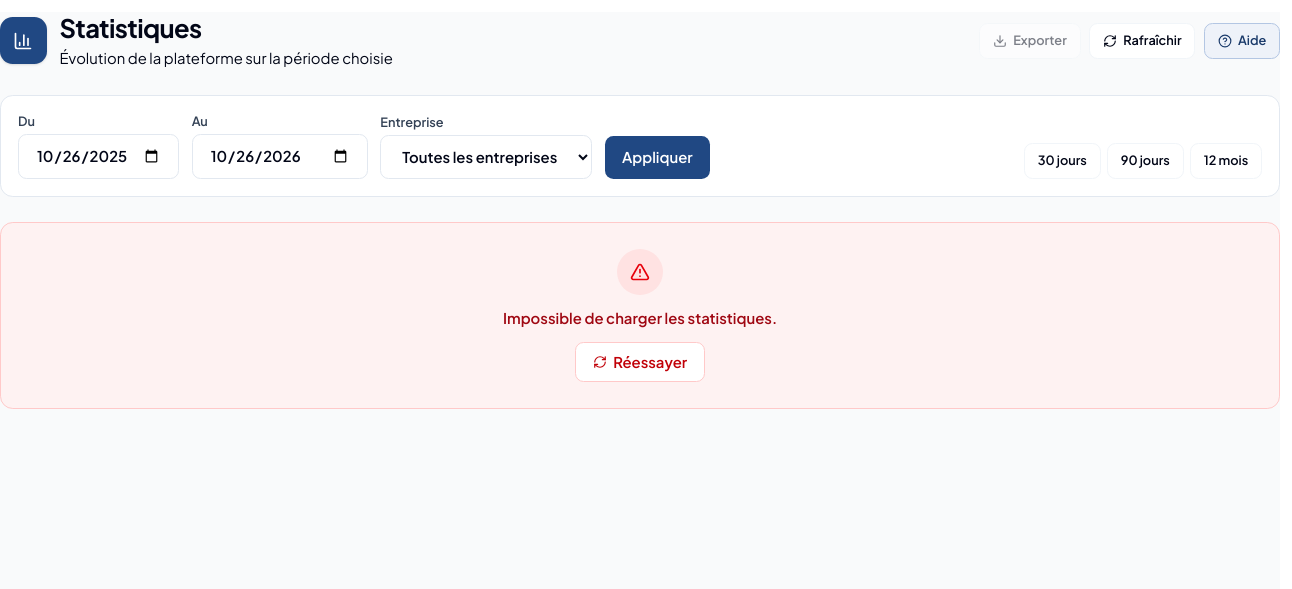
📊 UI & Logique - Composant <AdminStatsPeriode /> › 🔴 affiche une erreur de chargement avec possibilité de réessayer
Expected: the text "Impossible de charger les statistiques." is shown, [503,308,777,329]
Click the button "Réessayer": (640, 362) [575,342,705,382]
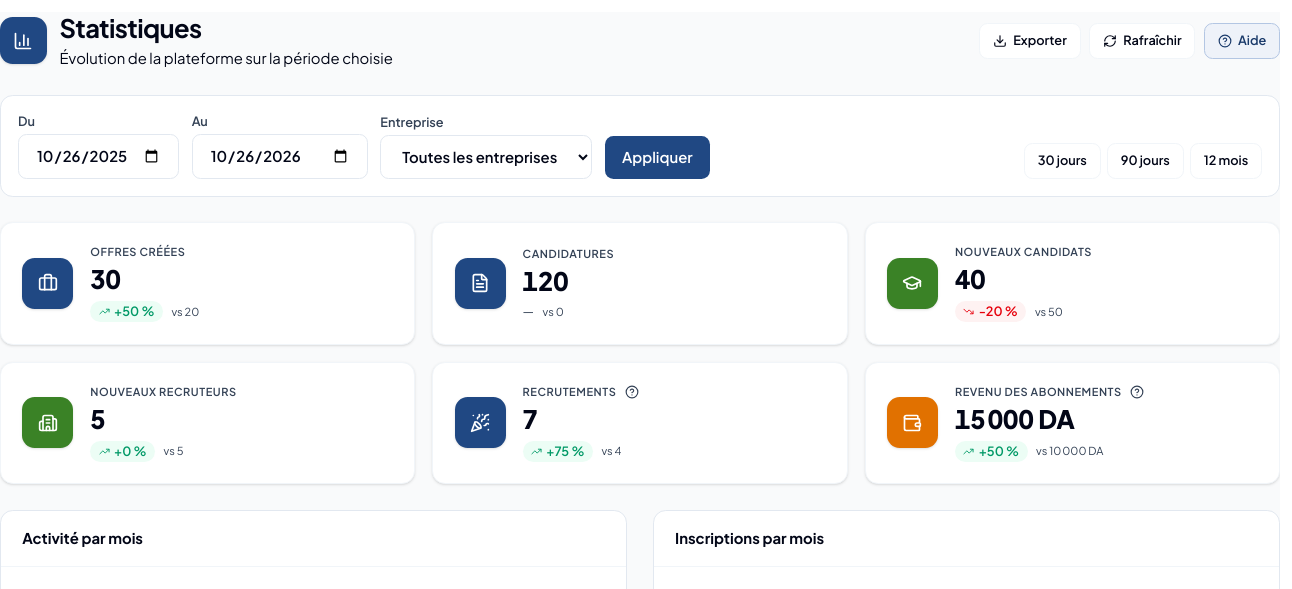
Expected: the text "Offres créées" is shown, [90,244,199,261]
